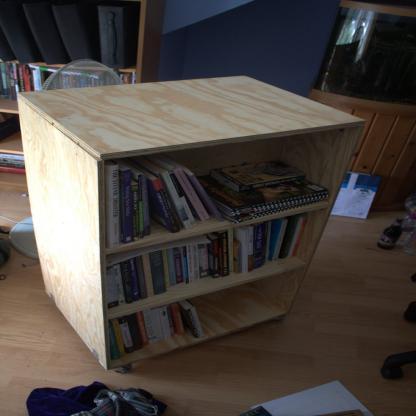book: (96, 214, 312, 308), (108, 160, 336, 248), (105, 300, 210, 361), (0, 61, 141, 99), (0, 128, 28, 172)
